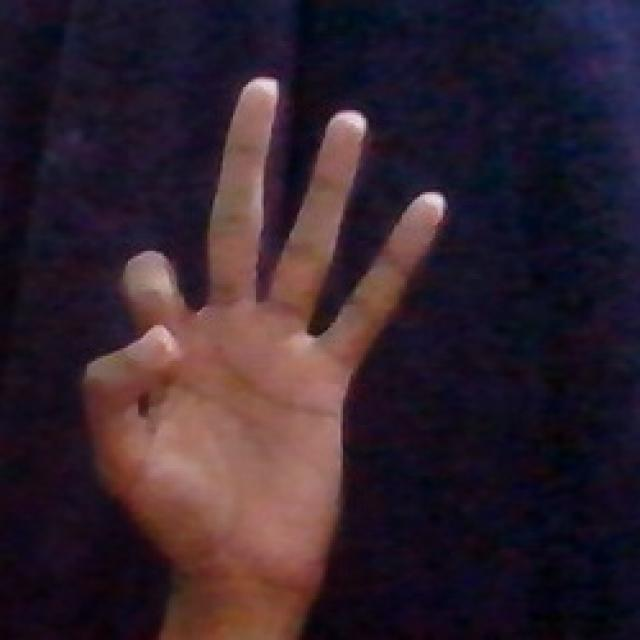Numeric-9: (75, 55, 451, 589)
